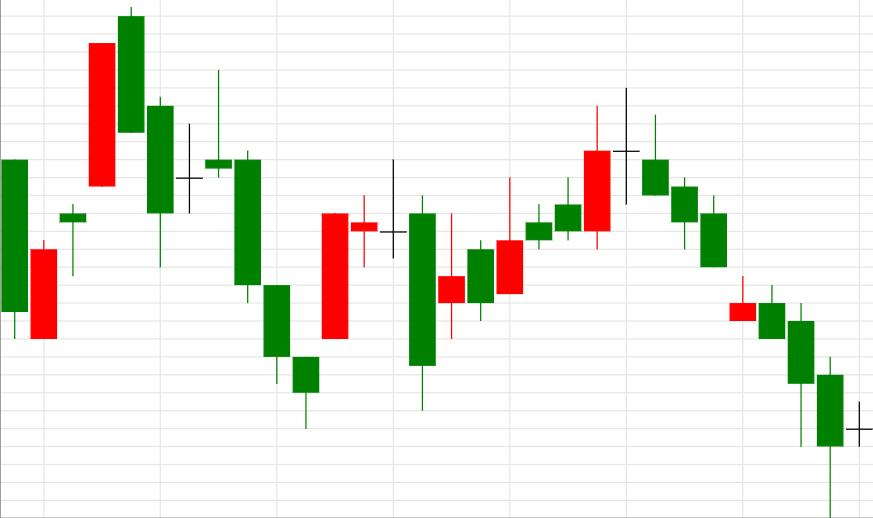evening_star_fall: (438, 88, 668, 338)
